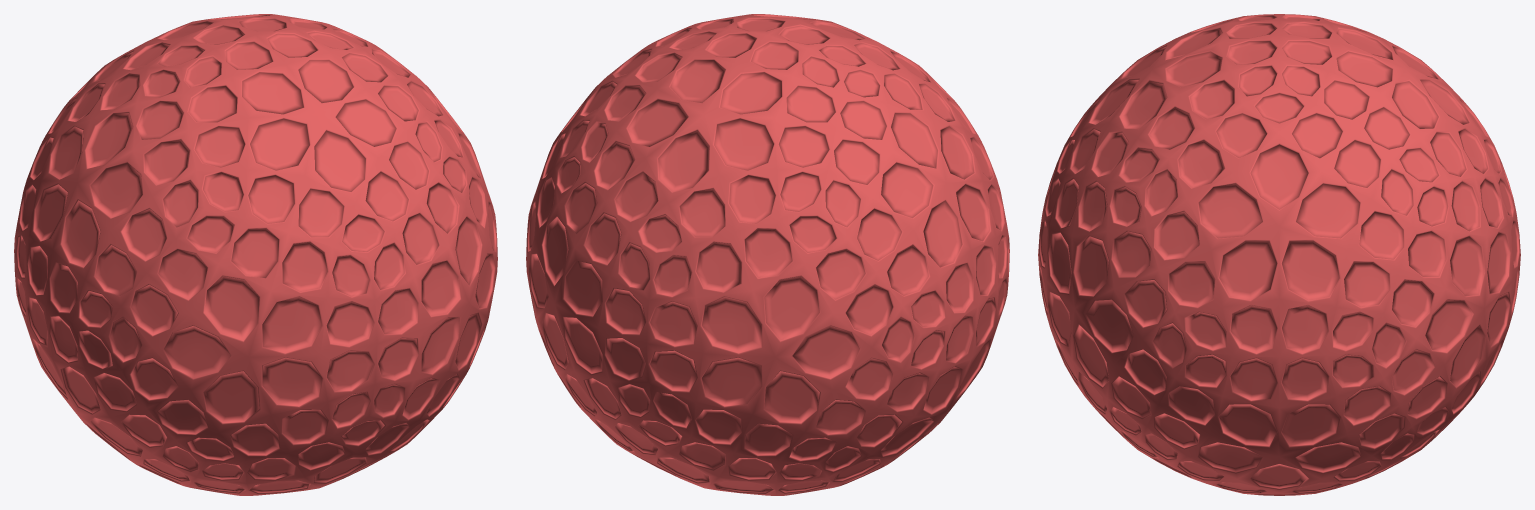
The model's file is GolfBall_v2_red.fbx.
3 renders of one model, left to right at view 1: azimuth 30°, elevation 25°; view 2: azimuth 150°, elevation 25°; view 3: azimuth 270°, elevation 25°, orthographic.
Parts seen in each view (by area): view 1: Golf_Ball_v1_001_Model; view 2: Golf_Ball_v1_001_Model; view 3: Golf_Ball_v1_001_Model.
Part boxes in pixels (x1,y1,x2,y2): Golf_Ball_v1_001_Model: (14,14,497,495); Golf_Ball_v1_001_Model: (526,14,1009,495); Golf_Ball_v1_001_Model: (1038,14,1520,495).
Bounding box in the file's own units: 7.4 × 7.4 × 7.4.
